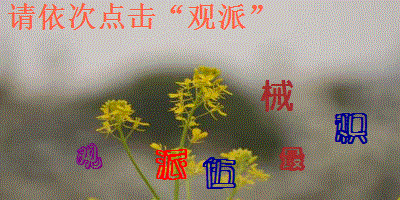text: (201, 155, 239, 191), (260, 79, 296, 115), (333, 111, 369, 147), (154, 148, 189, 181), (74, 143, 105, 171), (277, 145, 307, 173)
